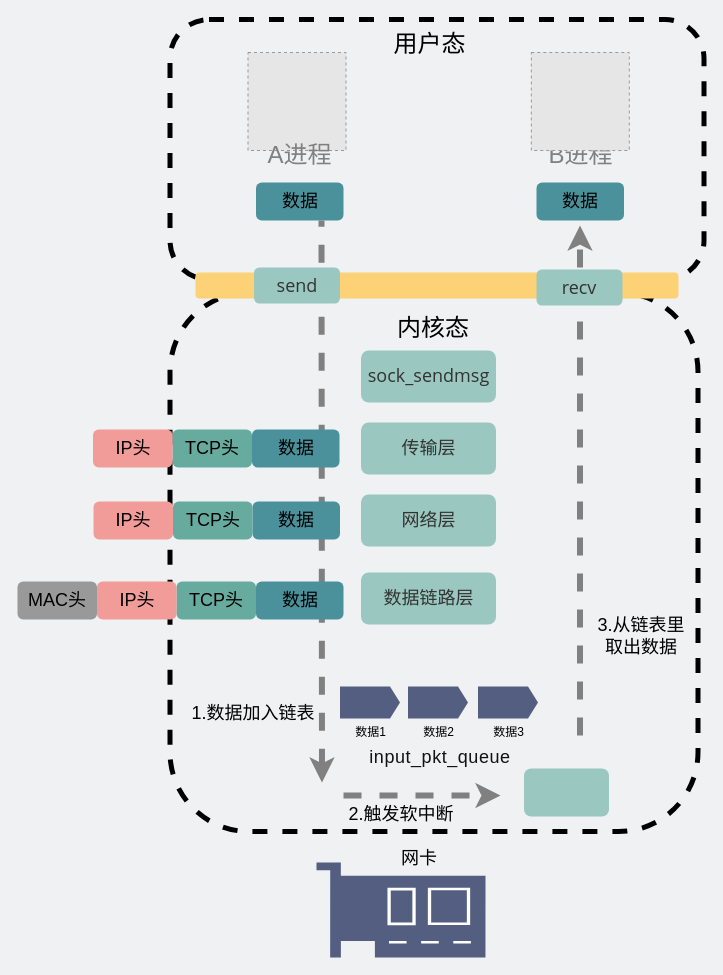
This 723x975 diagram has some shape labels left out. Grey dashed boxes stand in for pictures. The shapes that lost their labels are listed below. From the top down, each one's box as (x1, y1, x2, y2) in pixels, then its label:
(195, 272, 678, 298): socket接口
(524, 768, 608, 816): 软中断
